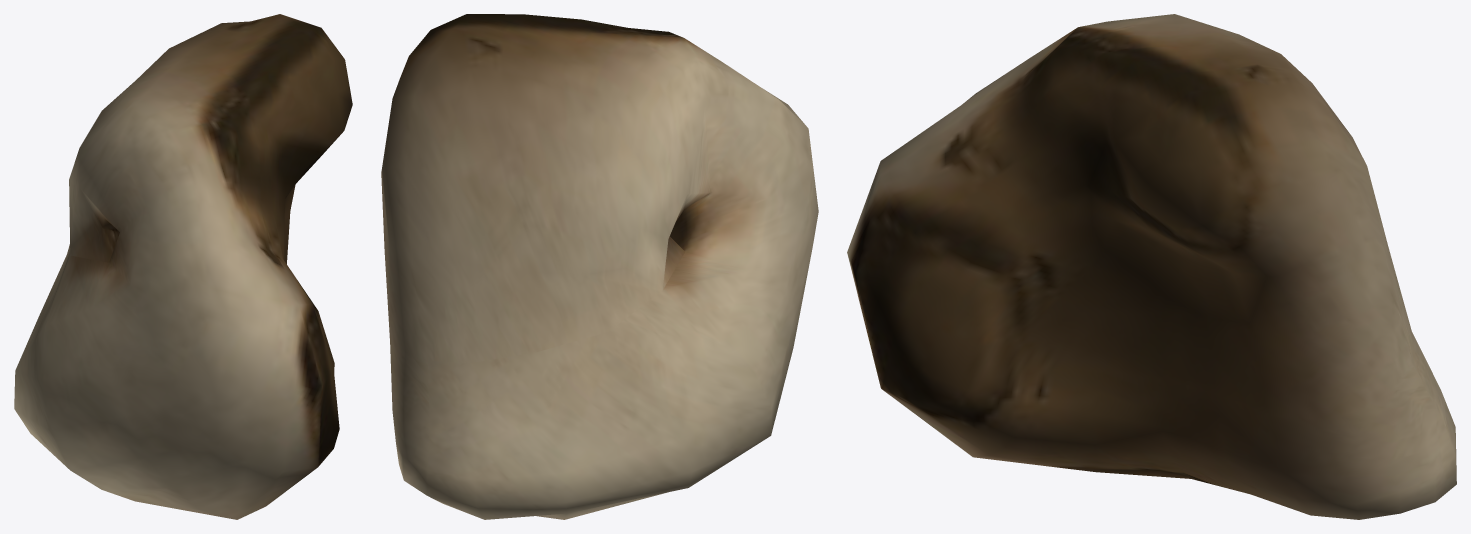
The model's file is Distal_Carpal_I.glb.
3 views of the same model, side by side, from view 1: azimuth 30°, elevation 25°; view 2: azimuth 150°, elevation 25°; view 3: azimuth 270°, elevation 25° (orthographic). The views are drawn at different scales.
Visible parts, largest first — view 1: Distal_Carpal_I_Left1:Group12558; view 2: Distal_Carpal_I_Left1:Group12558; view 3: Distal_Carpal_I_Left1:Group12558.
Part boxes in pixels (left/top/right/bottom): Distal_Carpal_I_Left1:Group12558: left=14, top=14, right=352, bottom=519; Distal_Carpal_I_Left1:Group12558: left=381, top=14, right=818, bottom=519; Distal_Carpal_I_Left1:Group12558: left=847, top=14, right=1456, bottom=519.
Size of the model in its own units: 5.79 by 6.76 by 7.96.
1 material, 1 textured.
